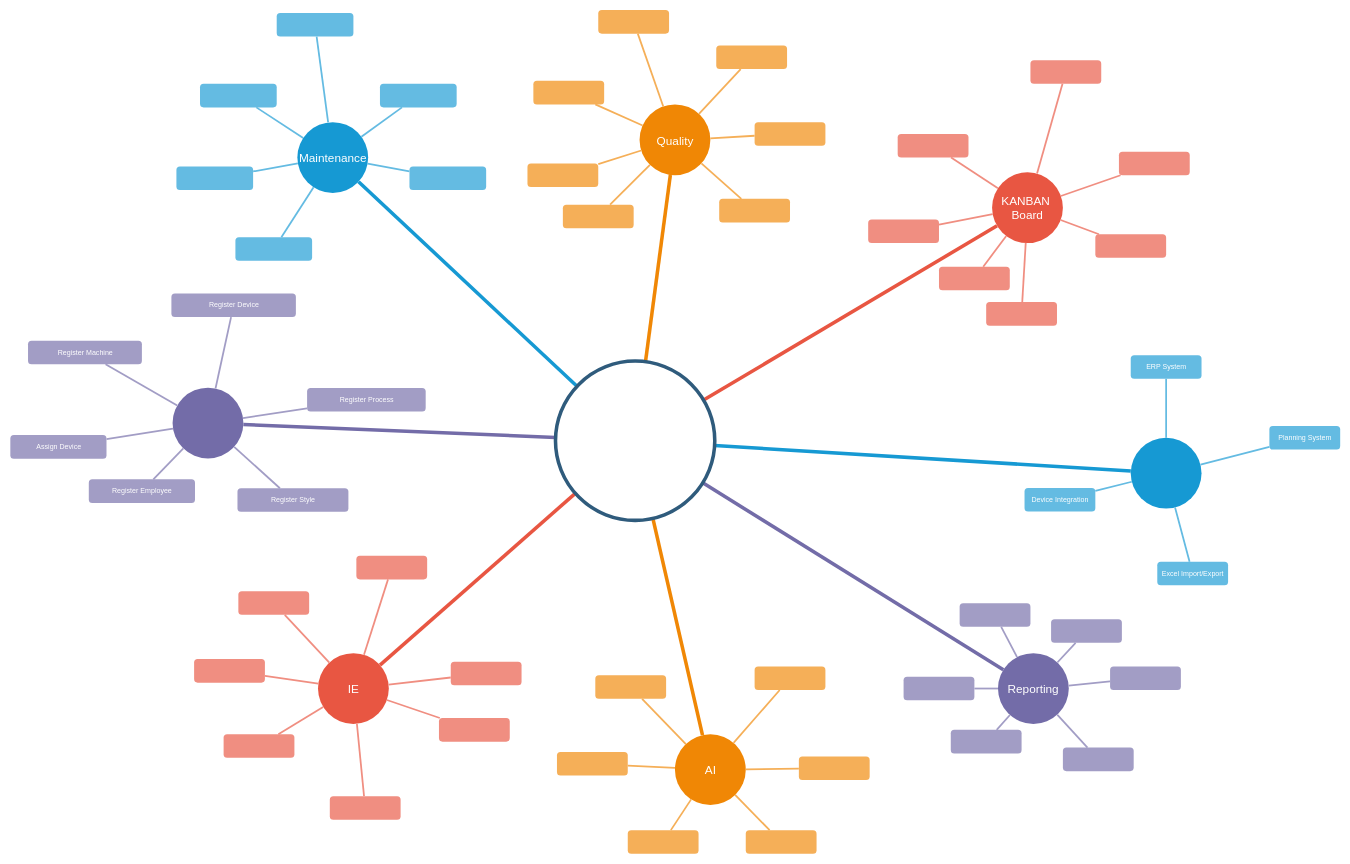
Image size: 1350x864. Some labels were removed from this diagram. Here are the shapes that lost their labels. From the top down, the centre of each, then its label:
At pixel 207 422: "Productivity".
At pixel 634 440: "NIDLE".
At pixel 1165 472: "Integration".
